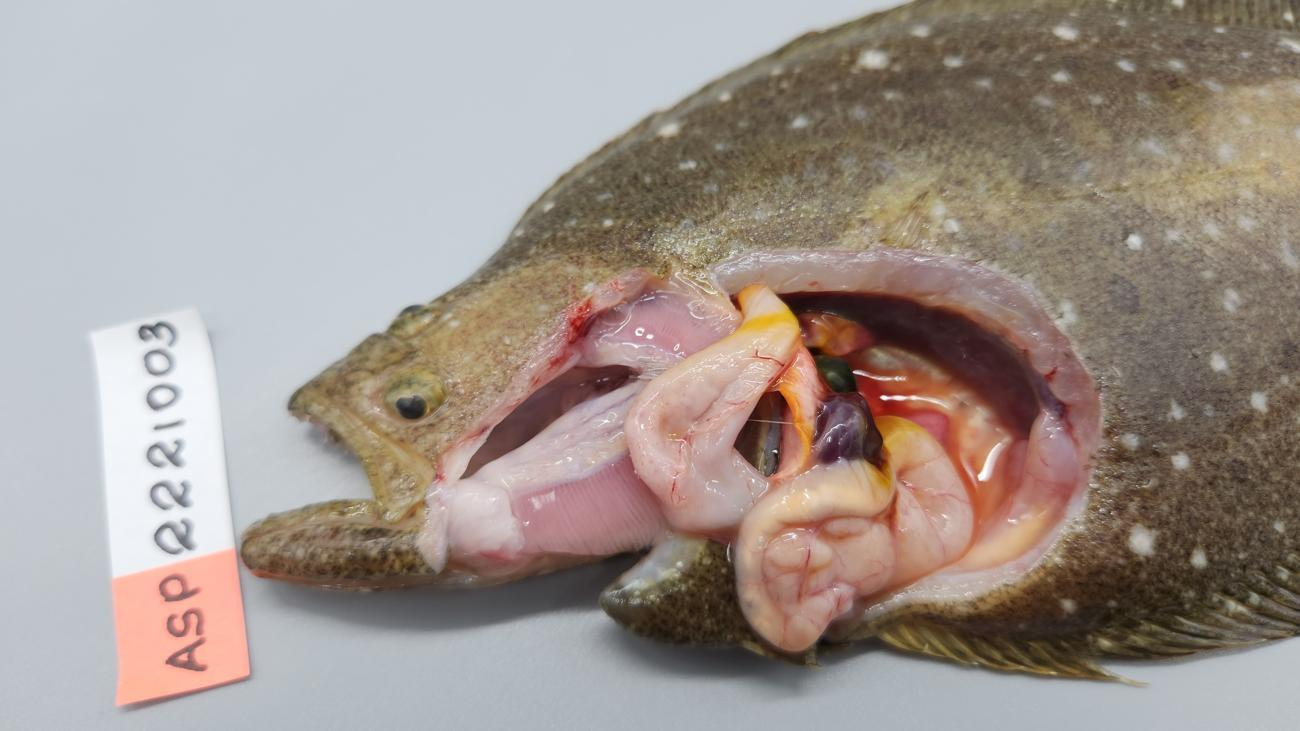SPSPE: (811, 392, 883, 467)
